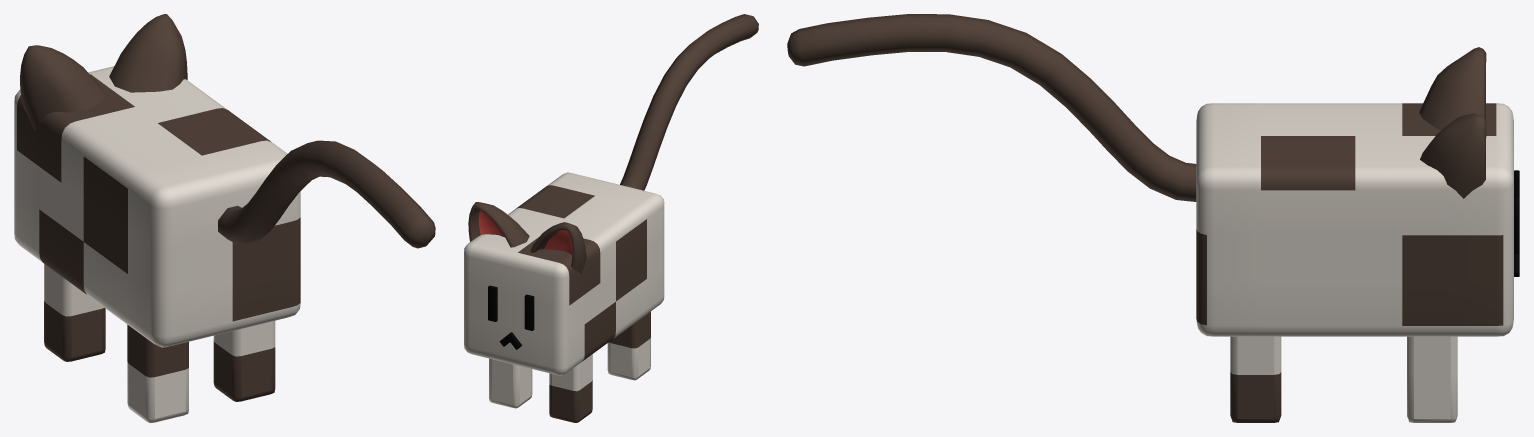
Rendered from Character_Cat_01a.fbx.
3 views of the same model, side by side, from view 1: azimuth 30°, elevation 25°; view 2: azimuth 150°, elevation 25°; view 3: azimuth 270°, elevation 25° (orthographic). The views are drawn at different scales.
Parts seen in each view (by area): view 1: Character_Cat_01a; view 2: Character_Cat_01a; view 3: Character_Cat_01a.
Boxes of the visible parts, x1=… form: Character_Cat_01a: x1=14, y1=14, x2=435, y2=422; Character_Cat_01a: x1=464, y1=14, x2=758, y2=422; Character_Cat_01a: x1=787, y1=14, x2=1519, y2=422.
Bounding box in the file's own units: 16.84 × 36.19 × 63.7.
